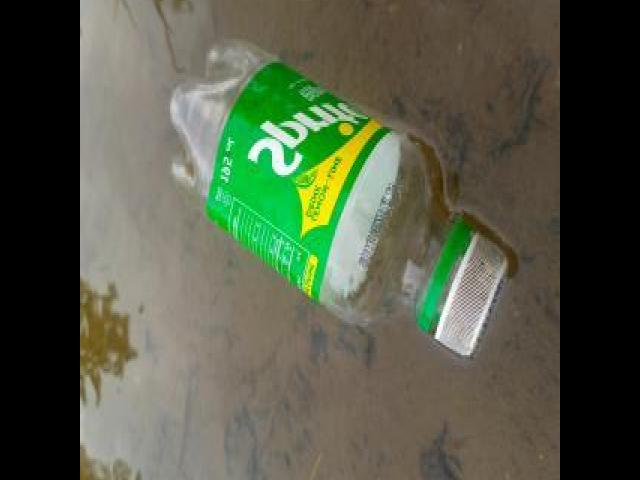Bottle: (165, 29, 512, 367)
